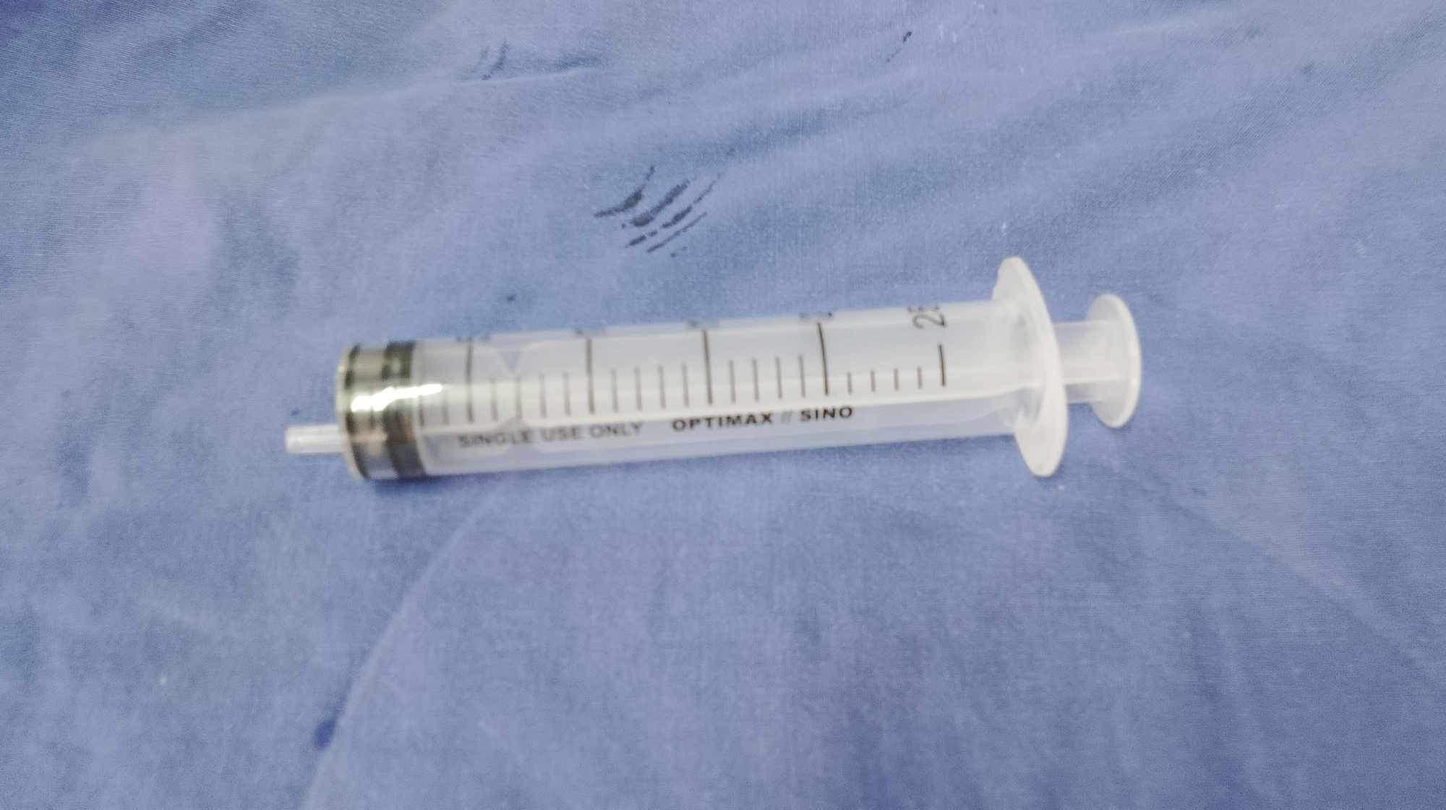General: (6, 4, 1438, 804)
Sharps: (283, 254, 1144, 486)
